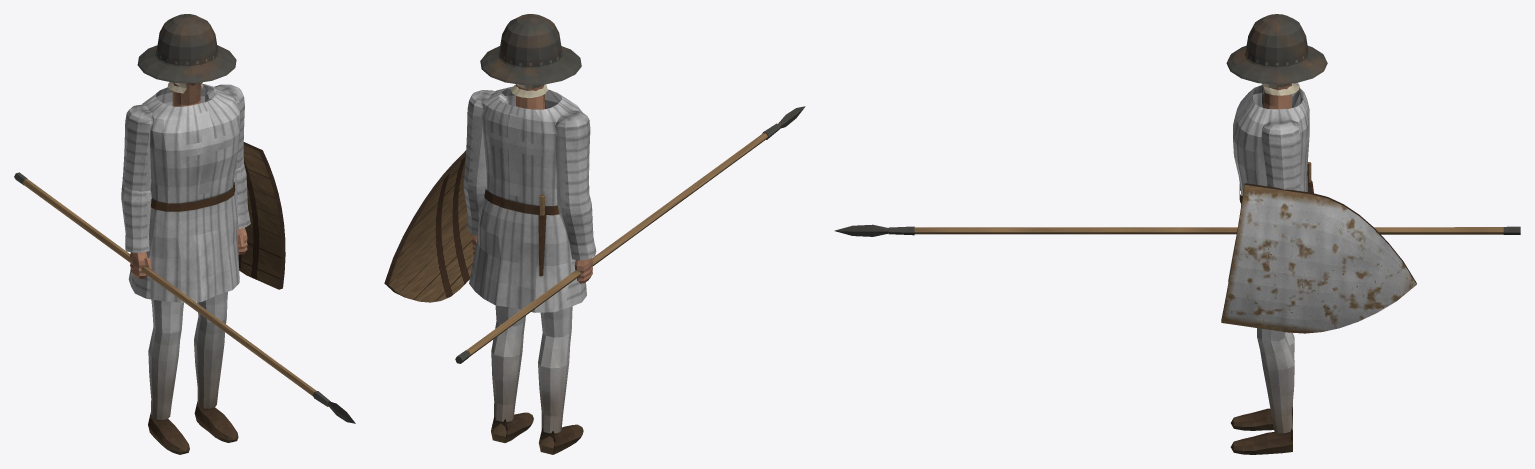
The model's file is spearmen.glb.
3 renders of one model, left to right at view 1: azimuth 30°, elevation 25°; view 2: azimuth 150°, elevation 25°; view 3: azimuth 270°, elevation 25°, orthographic. The views are drawn at different scales.
Parts seen in each view (by area): view 1: spearmen_LOD0; view 2: spearmen_LOD0; view 3: spearmen_LOD0.
Part boxes in pixels (x1=…): spearmen_LOD0: x1=14, y1=14, x2=355, y2=454; spearmen_LOD0: x1=384, y1=14, x2=805, y2=454; spearmen_LOD0: x1=834, y1=14, x2=1520, y2=454.
Size of what is drawn, in the model's own units: 0.6176 by 1.8 by 2.66.
1 material, 1 textured.
